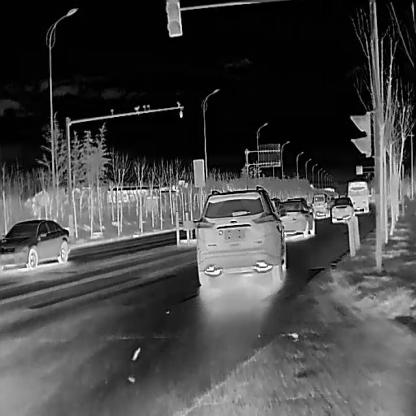car: (195, 183, 284, 284), (0, 218, 70, 269), (275, 198, 314, 238), (345, 180, 369, 212), (329, 197, 353, 223), (311, 202, 329, 218), (310, 192, 326, 202)
